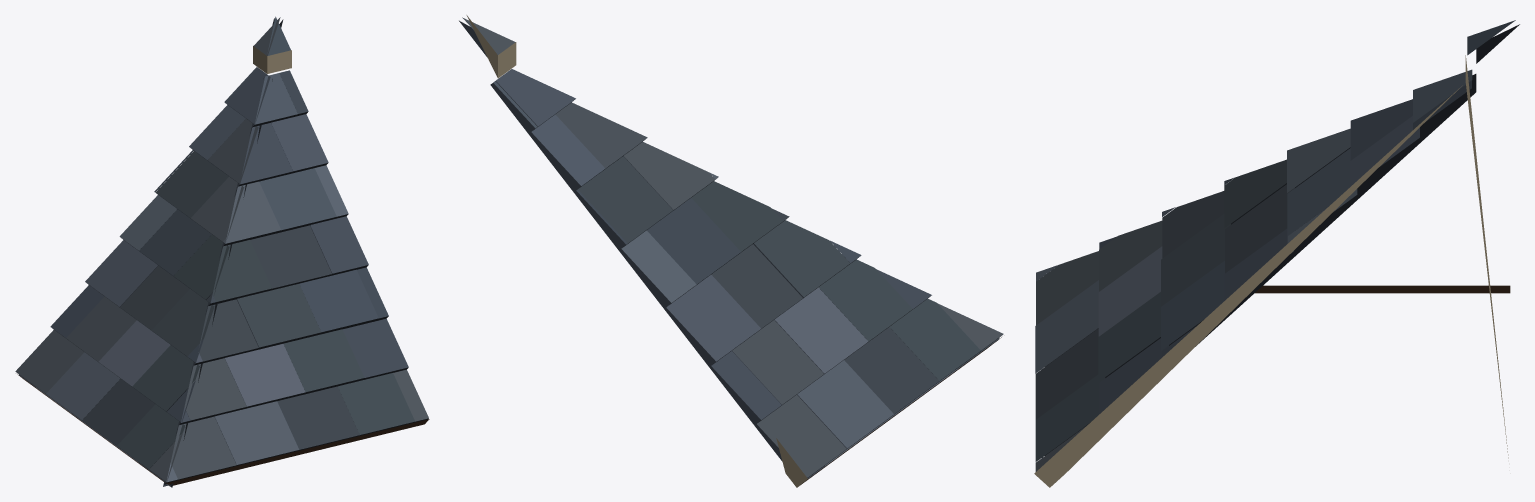
File: roof-high-corner-slate.glb
3 views of the same model, side by side, from view 1: azimuth 30°, elevation 25°; view 2: azimuth 150°, elevation 25°; view 3: azimuth 270°, elevation 25° (orthographic). The views are drawn at different scales.
Parts seen in each view (by area): view 1: roof-high-corner-slate; view 2: roof-high-corner-slate; view 3: roof-high-corner-slate.
Boxes of the visible parts, x1,y1,x2,y2 form: roof-high-corner-slate: (15, 16, 429, 487); roof-high-corner-slate: (459, 15, 1003, 487); roof-high-corner-slate: (1034, 20, 1519, 487).
Size of the model in its own units: 1.09 by 1.18 by 1.09.
